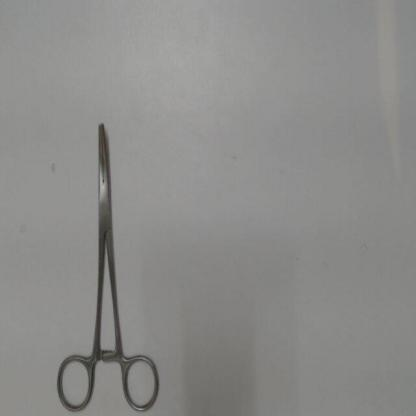Crile Artery Forceps: (50, 115, 164, 415)
